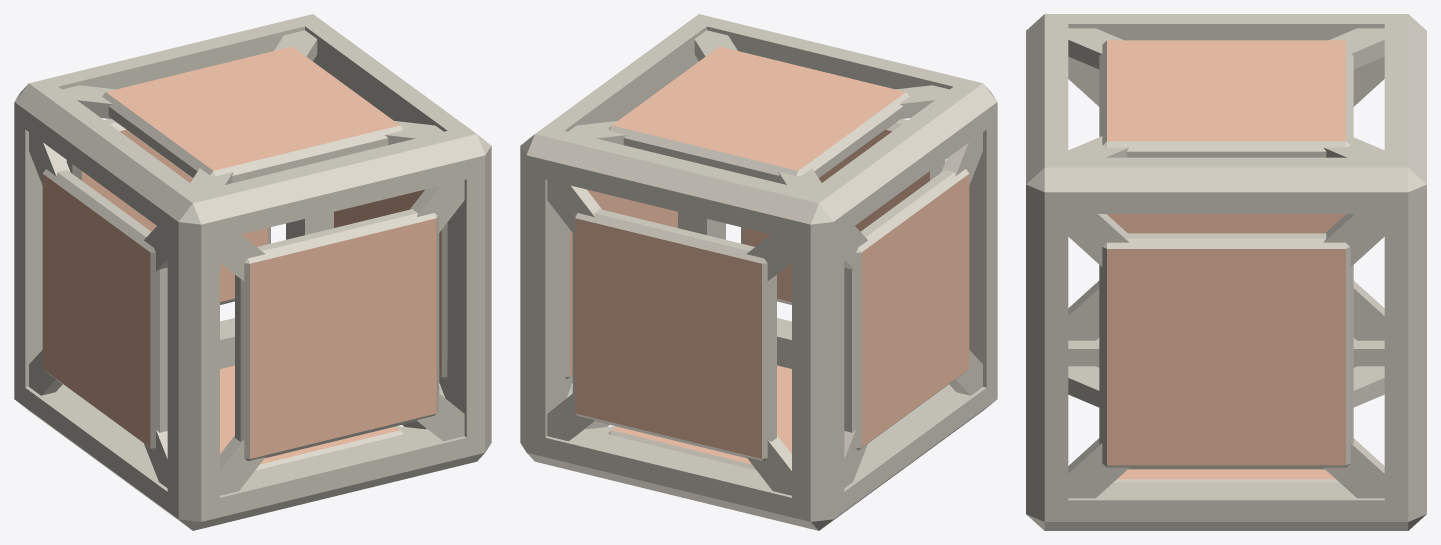
The model's file is R4B_TrussCube_LOD1.fbx.
The picture shows the model from 3 angles, left to right: view 1: azimuth 30°, elevation 25°; view 2: azimuth 150°, elevation 25°; view 3: azimuth 270°, elevation 25°; orthographic projection. The views are drawn at different scales.
Parts seen in each view (by area): view 1: R4B_TrussCube_LOD1; view 2: R4B_TrussCube_LOD1; view 3: R4B_TrussCube_LOD1.
Part boxes in pixels (left/top/right/bottom): R4B_TrussCube_LOD1: left=14, top=14, right=491, bottom=530; R4B_TrussCube_LOD1: left=520, top=14, right=997, bottom=530; R4B_TrussCube_LOD1: left=1026, top=14, right=1426, bottom=530.
Size of the model in its own units: 0.52 by 0.52 by 0.52.
